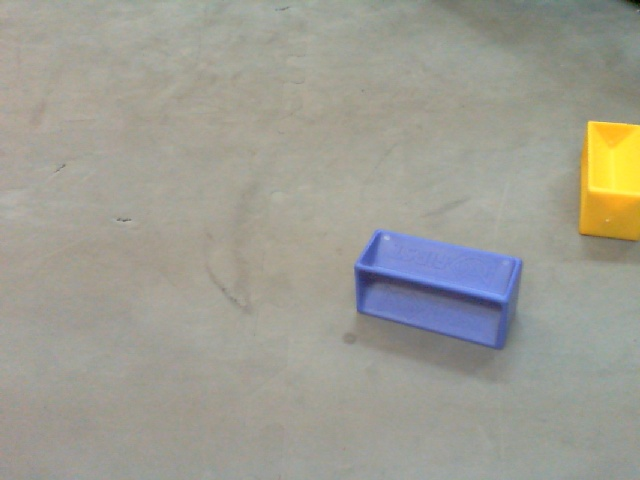BlueSample: (352, 227, 526, 354)
YellowSample: (573, 118, 640, 243)
